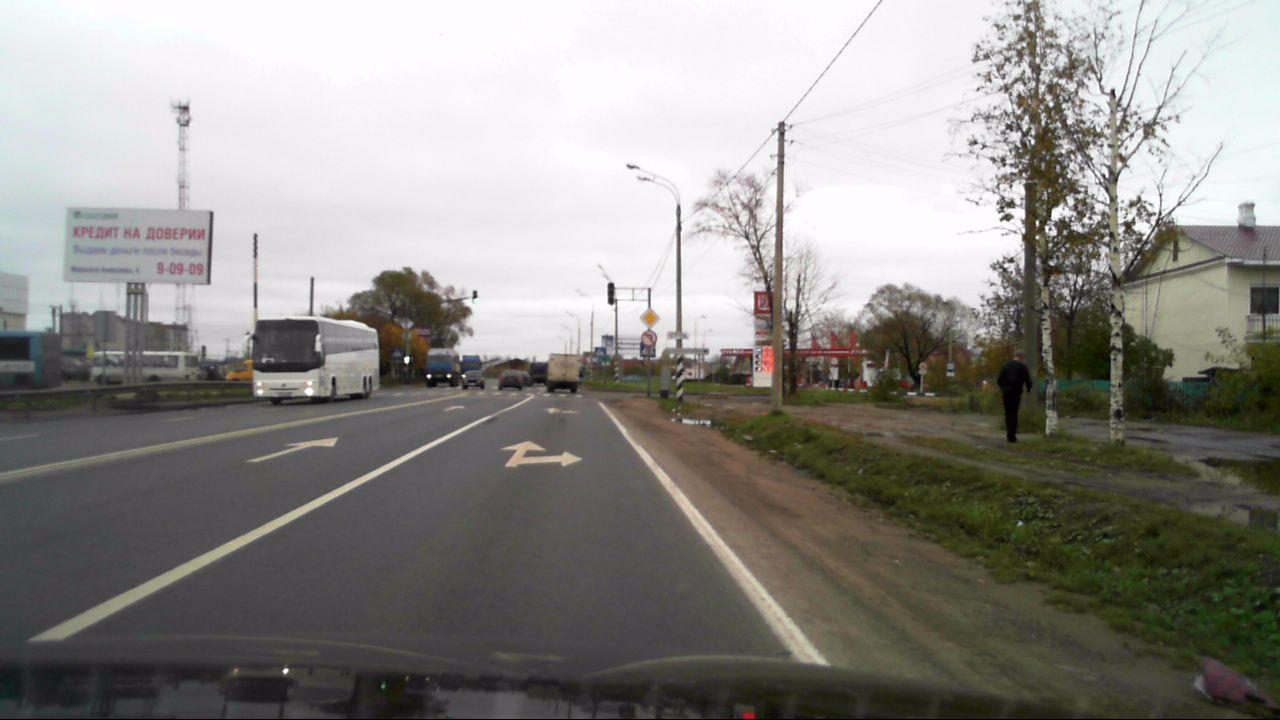2_1: (639, 307, 661, 328)
3_18_2: (641, 329, 658, 346)
5_19_1: (639, 342, 657, 357), (594, 347, 607, 357)
5_19_2: (391, 346, 403, 358)
